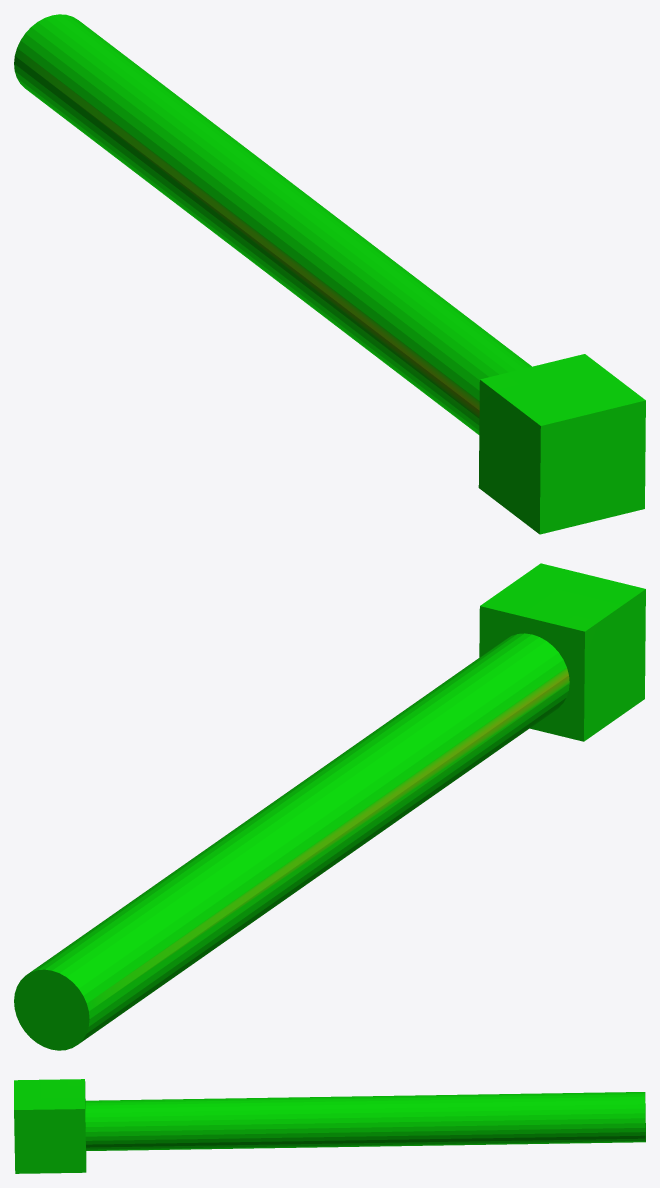
Rendered from AxisScaleArrowY.obj.
3 views of the same model, one above another, from view 1: azimuth 30°, elevation 25°; view 2: azimuth 150°, elevation 25°; view 3: azimuth 270°, elevation 25° (orthographic). The views are drawn at different scales.
Parts seen in each view (by area): view 1: Cube.001; view 2: Cube.001; view 3: Cube.001.
Part boxes in pixels (bbox=[...]): Cube.001: bbox=[14, 14, 645, 534]; Cube.001: bbox=[14, 563, 645, 1050]; Cube.001: bbox=[14, 1079, 645, 1173].
Bounding box in the file's own units: 0.2111 × 0.2135 × 1.88.
